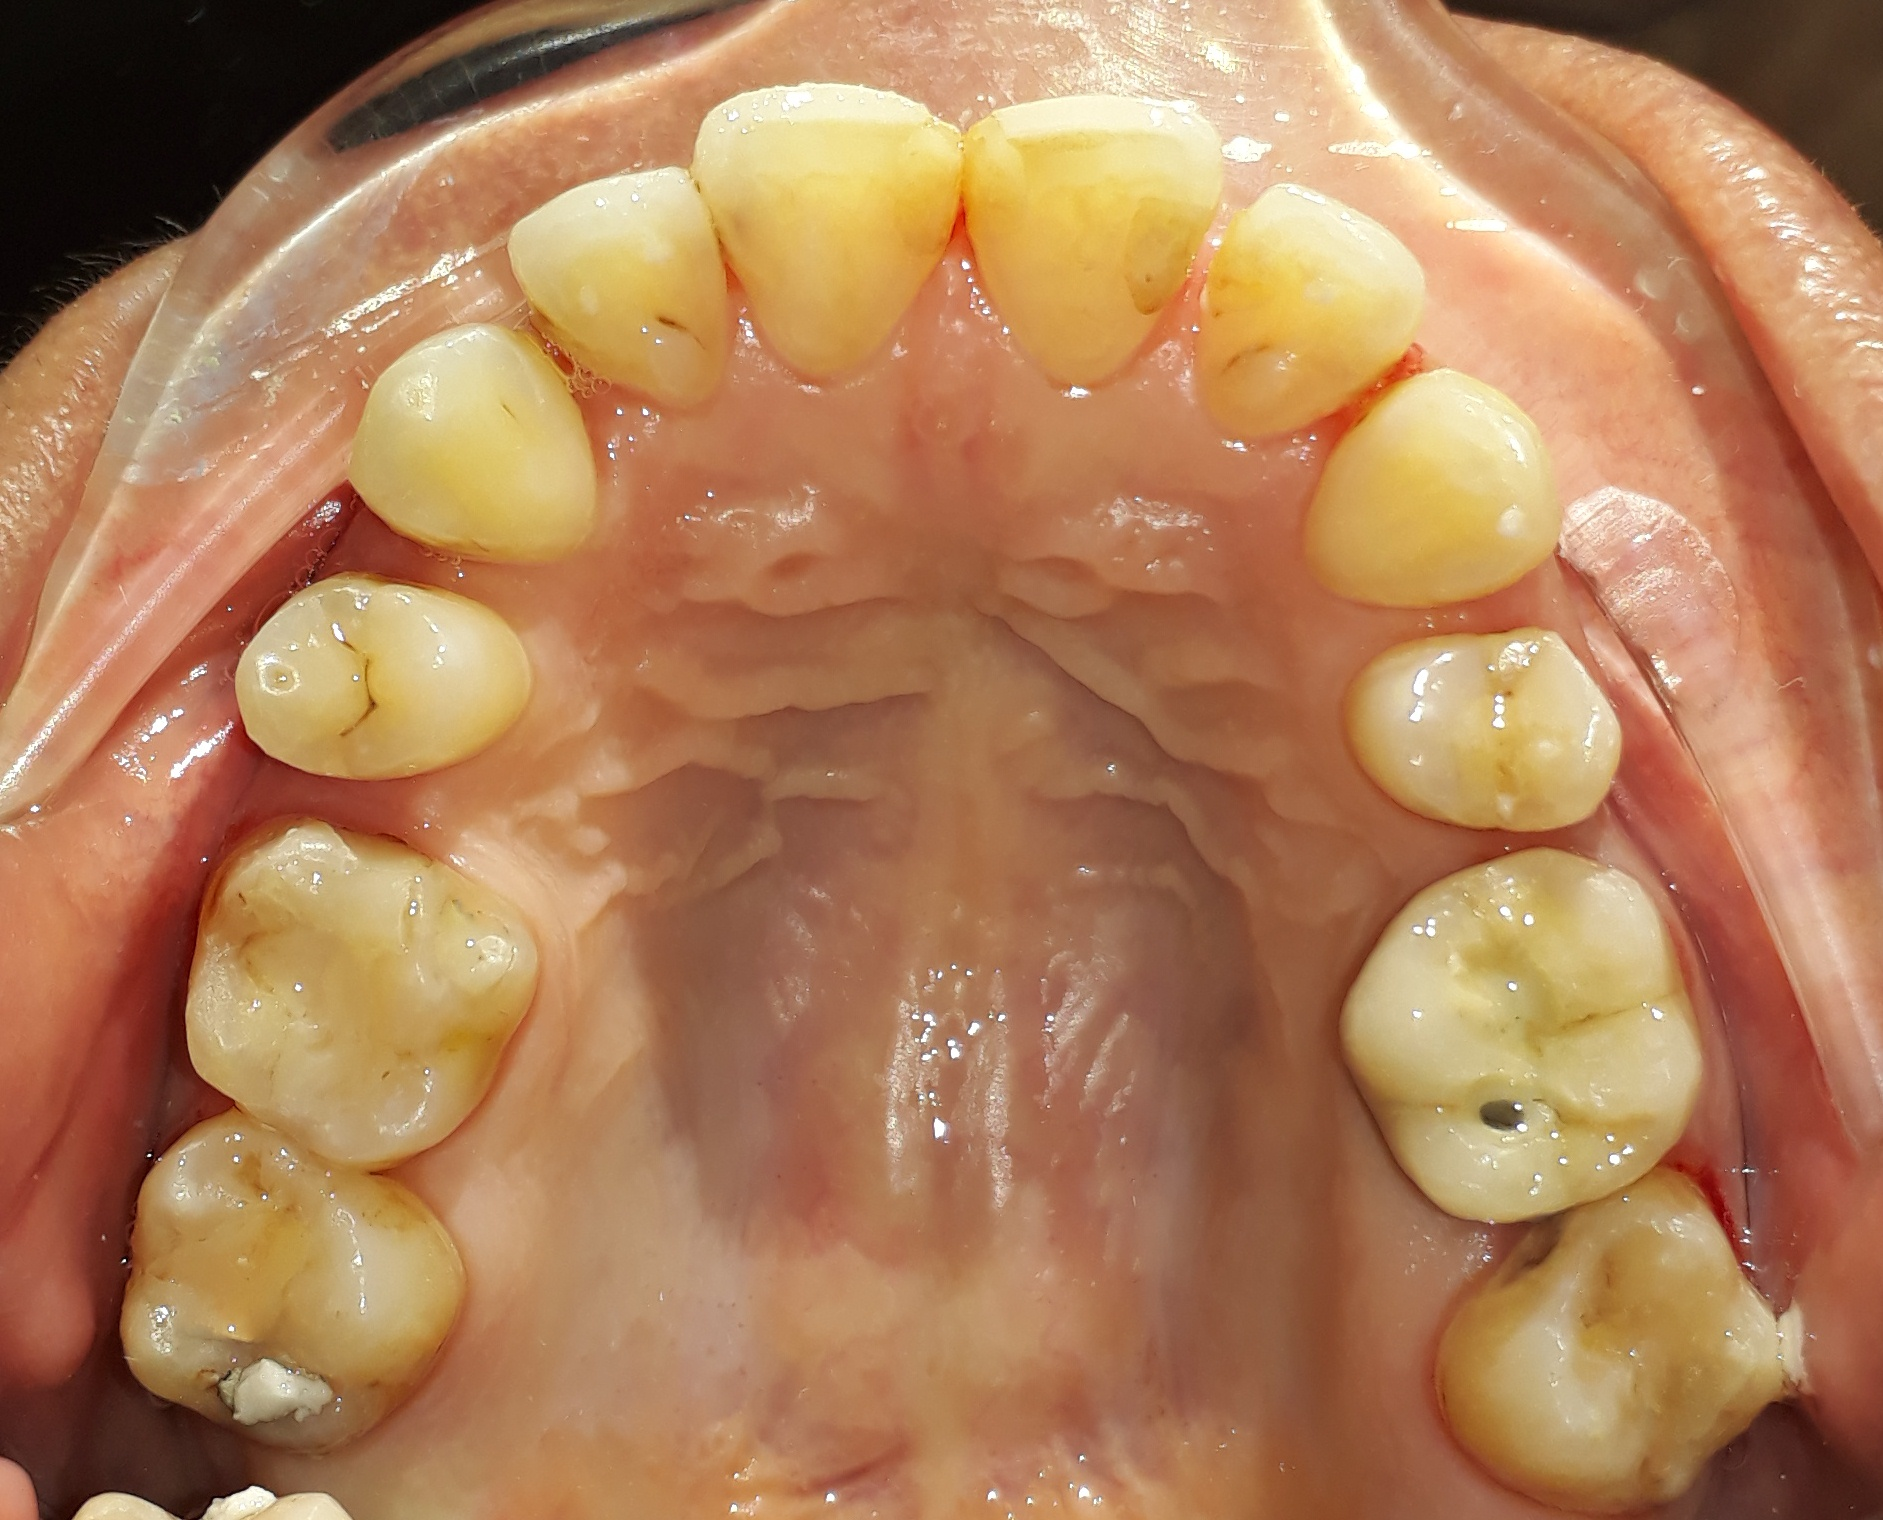1st Molar: (1425, 1182, 1776, 1517), (116, 1118, 461, 1446)
1st Premolar: (228, 572, 532, 776), (1349, 624, 1624, 827)
2nd Premolar: (1337, 845, 1705, 1211), (180, 803, 535, 1162)
Canine: (344, 320, 611, 560), (1306, 364, 1556, 611)
Central Incisor: (700, 81, 962, 403), (962, 85, 1210, 400)
Lateral Incisor: (1194, 181, 1425, 436), (507, 160, 734, 406)
